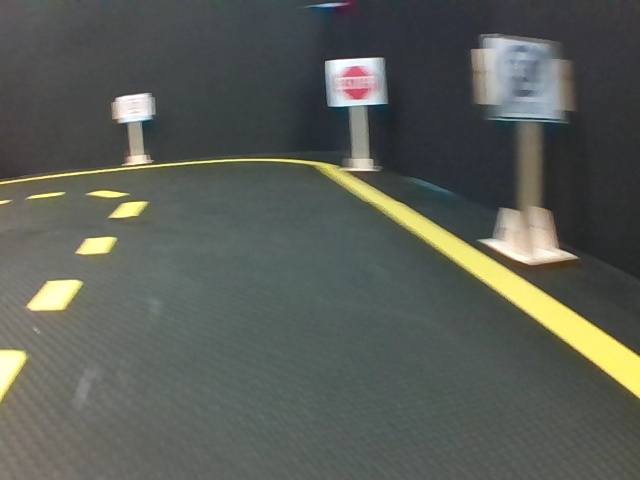30: (119, 97, 149, 120)
no30: (485, 35, 564, 120)
stop: (329, 60, 384, 104)
